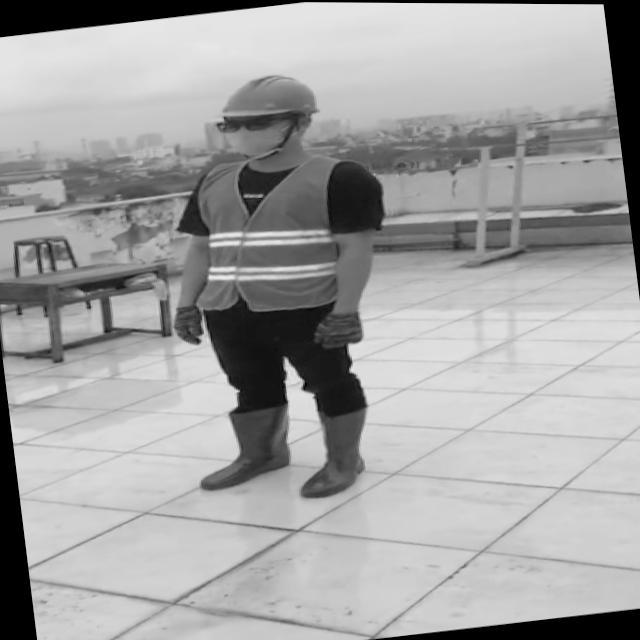goggles_on: (214, 110, 306, 136)
